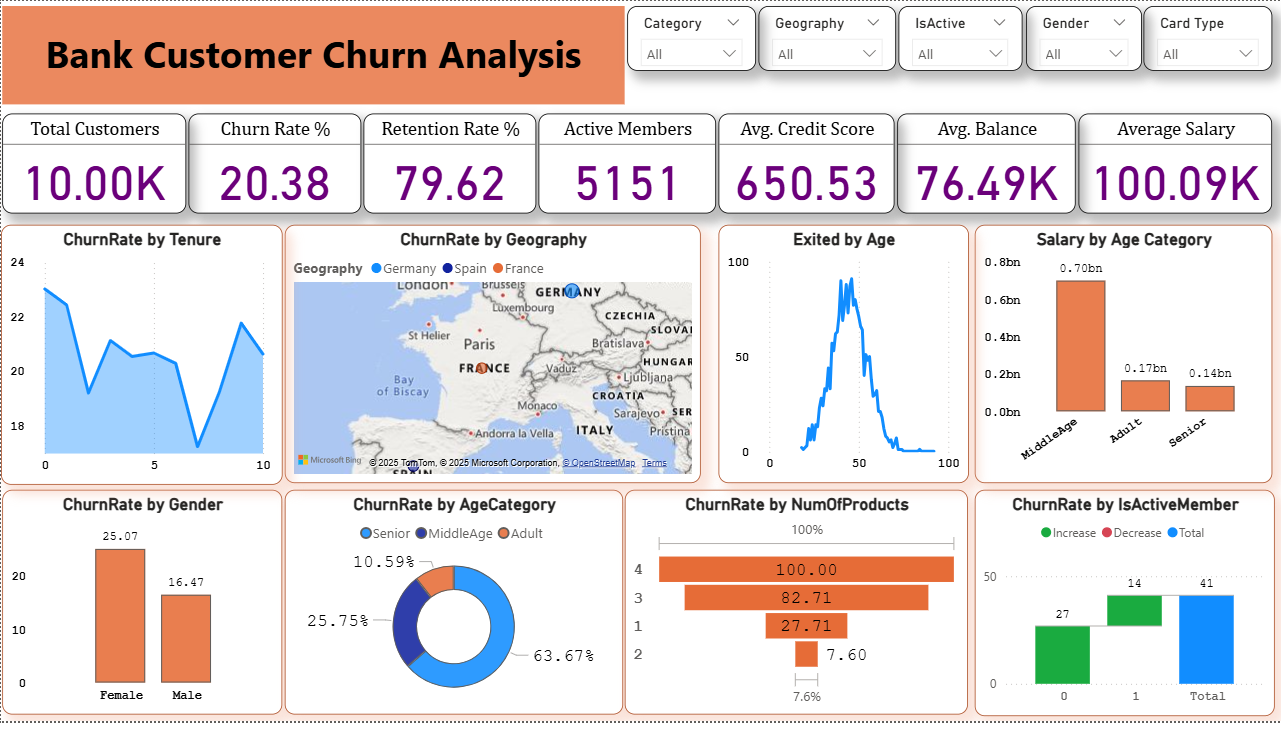

What the dashboard file says about the page in this screenshot:
{"tool":"powerbi","page":{"name":"Dashboard","canvas":[1280,720],"ordinal":0},"visuals":[{"type":"card","title":"Churn Rate %","fields":{"Values":["Measure.ChurnRate (%)"]},"box":[187,112.5,172.5,100],"z":0},{"type":"card","title":"Retention Rate %","fields":{"Values":["Measure.RetentionRate (%)"]},"box":[362,112.5,172.5,100],"z":1000},{"type":"card","title":"Total Customers","fields":{"Values":["Measure.Total Customers"]},"box":[1.2,112.5,183.8,100],"z":2000},{"type":"clusteredColumnChart","title":"ChurnRate by Gender","fields":{"Category":["Customer-Churn-Records.Gender"],"Y":["Measure.ChurnRate (%)"]},"box":[1.7,488.3,280,225],"z":3000},{"type":"donutChart","title":"ChurnRate by AgeCategory","fields":{"Category":["Customer-Churn-Records.AgeCategory"],"Y":["Measure.ChurnRate (%)"]},"box":[283.3,488.3,338.3,225],"z":4000},{"type":"funnel","title":"ChurnRate by NumOfProducts","fields":{"Category":["Customer-Churn-Records.NumOfProducts"],"Y":["Measure.ChurnRate (%)"]},"box":[623.3,488.3,343.3,225],"z":5000},{"type":"waterfallChart","title":"ChurnRate by IsActiveMember","fields":{"Category":["Customer-Churn-Records.IsActiveMember"],"Y":["Measure.ChurnRate (%)"]},"box":[973.8,488.8,300,226.2],"z":6000},{"type":"card","title":"Average Salary","fields":{"Values":["Avg(Customer-Churn-Records.EstimatedSalary)"]},"box":[1077.5,112.5,193.8,100],"z":7000},{"type":"card","title":"Avg. Balance","fields":{"Values":["Avg(Customer-Churn-Records.Balance)"]},"box":[896,112.5,178.8,100],"z":8000},{"type":"card","title":"Active Members","fields":{"Values":["Sum(Customer-Churn-Records.IsActiveMember)"]},"box":[537,112.5,177.5,100],"z":9000},{"type":"textbox","box":[1.2,5,622.5,98.8],"z":10000},{"type":"map","title":"ChurnRate by Geography","fields":{"Size":["Measure.ChurnRate (%)"],"Category":["Customer-Churn-Records.Geography"],"Series":["Customer-Churn-Records.Geography"]},"box":[283.8,223.8,416.2,258.8],"z":11000},{"type":"slicer","fields":{"Values":["Customer-Churn-Records.Card Type"]},"box":[1142.5,5,128.8,65],"z":12000},{"type":"slicer","fields":{"Values":["Customer-Churn-Records.Geography"]},"box":[758,5,137.5,65],"z":13000},{"type":"slicer","fields":{"Values":["Customer-Churn-Records.Gender"]},"box":[1025,5,116.2,65],"z":14000},{"type":"slicer","fields":{"Values":["Customer-Churn-Records.Customer Category"]},"box":[626.2,5,128.8,65],"z":15000},{"type":"slicer","fields":{"Values":["Customer-Churn-Records.IsActive"]},"box":[897,5,123.8,65],"z":16000},{"type":"areaChart","title":"ChurnRate  by Tenure","fields":{"Category":["Customer-Churn-Records.Tenure"],"Y":["Measure.ChurnRate (%)"]},"box":[0,223.8,281.2,260],"z":17000},{"type":"card","title":"Avg. Credit Score","fields":{"Values":["Avg(Customer-Churn-Records.CreditScore)"]},"box":[717,112.5,176.2,100],"z":18000},{"type":"clusteredColumnChart","title":"Salary by Age Category","fields":{"Category":["Customer-Churn-Records.AgeCategory"],"Y":["Sum(Customer-Churn-Records.EstimatedSalary)"]},"box":[973.8,223.8,297.5,258.8],"z":19000},{"type":"lineChart","title":"Exited by Age","fields":{"Category":["Customer-Churn-Records.Age"],"Y":["Sum(Customer-Churn-Records.Exited)"]},"box":[717.5,223.8,250,258.8],"z":20000}]}

Visuals, with their boxes in screenshot pixels (x1, y1, x2, y2), scaled from the page's 1280x720 canvas onto the 1281x731 screenshot:
"Churn Rate %" card: 187,114,360,216
"Retention Rate %" card: 362,114,535,216
"Total Customers" card: 1,114,185,216
"ChurnRate by Gender" clusteredColumnChart: 2,496,282,724
"ChurnRate by AgeCategory" donutChart: 284,496,622,724
"ChurnRate by NumOfProducts" funnel: 624,496,967,724
"ChurnRate by IsActiveMember" waterfallChart: 975,496,1275,726
"Average Salary" card: 1078,114,1272,216
"Avg. Balance" card: 897,114,1076,216
"Active Members" card: 537,114,715,216
textbox: 1,5,624,105
"ChurnRate by Geography" map: 284,227,701,490
slicer - Customer-Churn-Records.Card Type: 1143,5,1272,71
slicer - Customer-Churn-Records.Geography: 759,5,896,71
slicer - Customer-Churn-Records.Gender: 1026,5,1142,71
slicer - Customer-Churn-Records.Customer Category: 627,5,756,71
slicer - Customer-Churn-Records.IsActive: 898,5,1022,71
"ChurnRate  by Tenure" areaChart: 0,227,281,491
"Avg. Credit Score" card: 718,114,894,216
"Salary by Age Category" clusteredColumnChart: 975,227,1272,490
"Exited by Age" lineChart: 718,227,968,490
